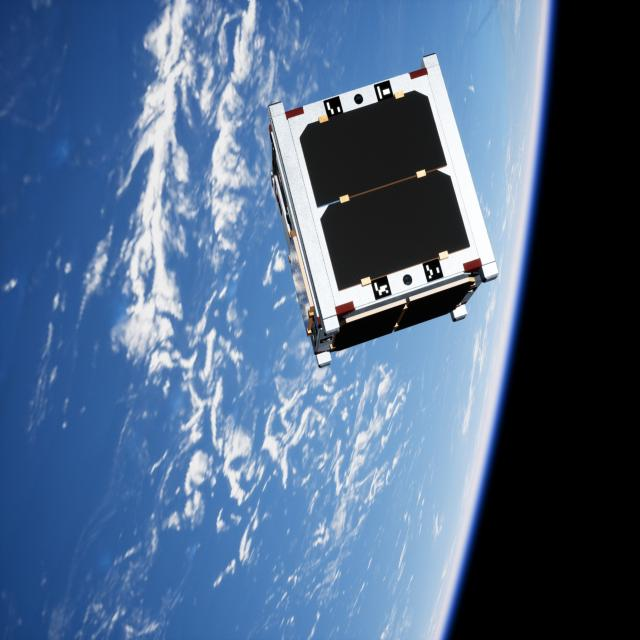medium_debris: (261, 53, 497, 366)
